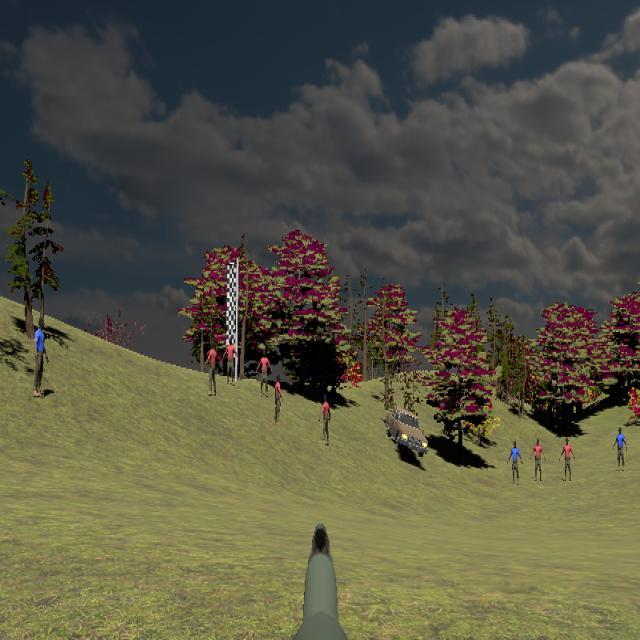Human: (34, 317, 48, 398), (205, 341, 220, 396), (222, 338, 239, 385), (257, 350, 273, 398), (559, 437, 576, 482), (531, 437, 546, 484), (612, 426, 627, 472), (319, 392, 331, 447), (508, 440, 522, 486), (274, 372, 283, 425), (274, 372, 283, 424)
car: (385, 408, 427, 457)
